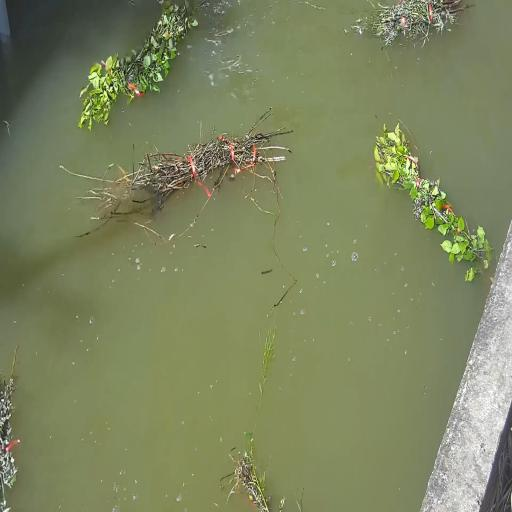twig: (70, 109, 292, 228), (374, 124, 490, 261), (78, 2, 196, 130), (221, 328, 275, 512), (350, 0, 472, 45), (0, 351, 19, 512)
